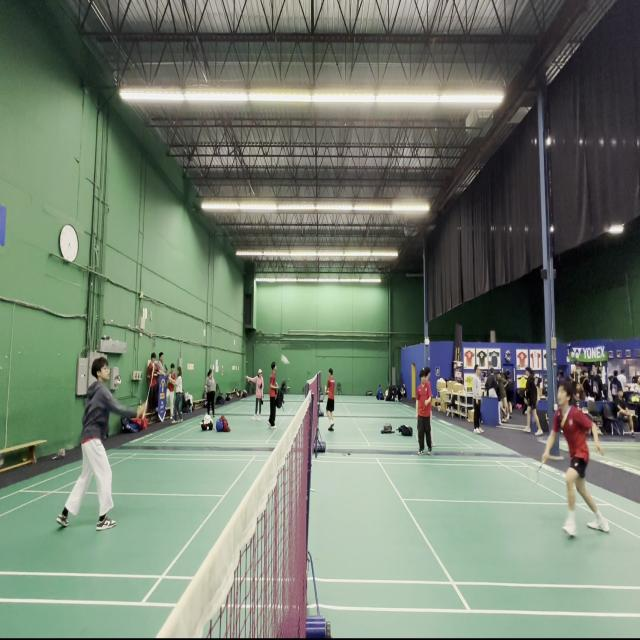shuttlecock: (281, 356, 290, 364)
